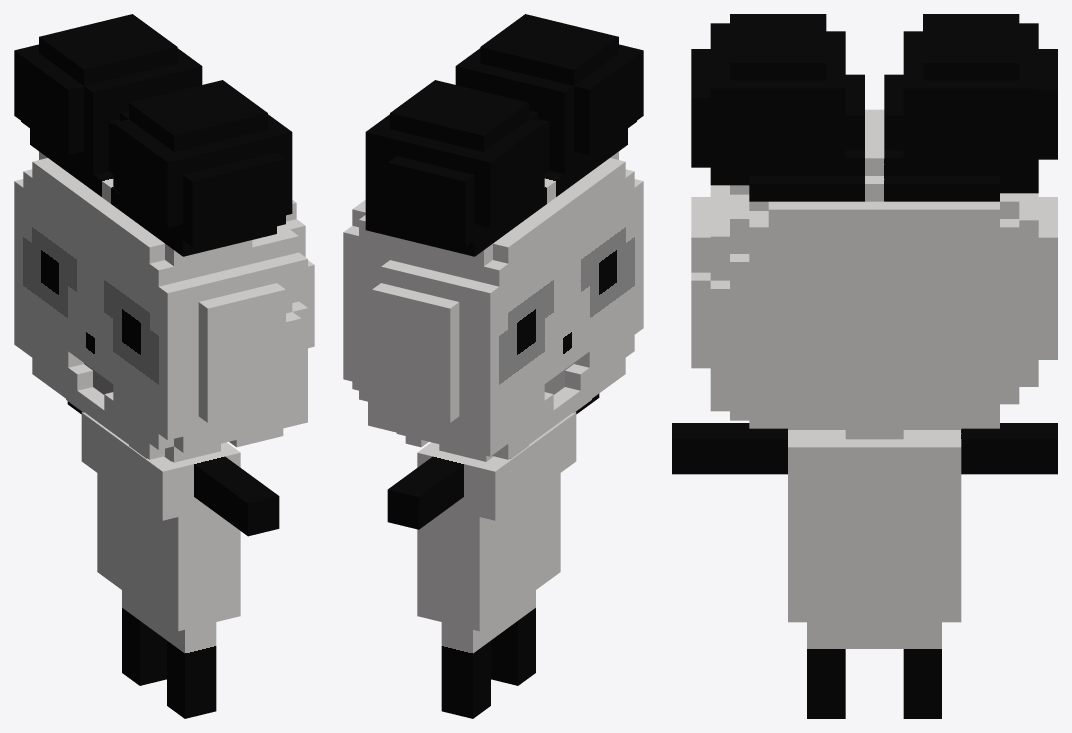
The model's file is LeeLee2GLTF.gltf.
3 views of the same model, side by side, from view 1: azimuth 30°, elevation 25°; view 2: azimuth 150°, elevation 25°; view 3: azimuth 270°, elevation 25° (orthographic). The views are drawn at different scales.
Visible parts, largest first — view 1: LeeLee2-Mesh; view 2: LeeLee2-Mesh; view 3: LeeLee2-Mesh.
Boxes of the visible parts, bbox=[...] form: LeeLee2-Mesh: bbox=[14, 14, 314, 718]; LeeLee2-Mesh: bbox=[343, 14, 643, 718]; LeeLee2-Mesh: bbox=[672, 14, 1057, 718].
Size of the model in its own units: 10 by 38 by 20.
1 material, 1 textured.
